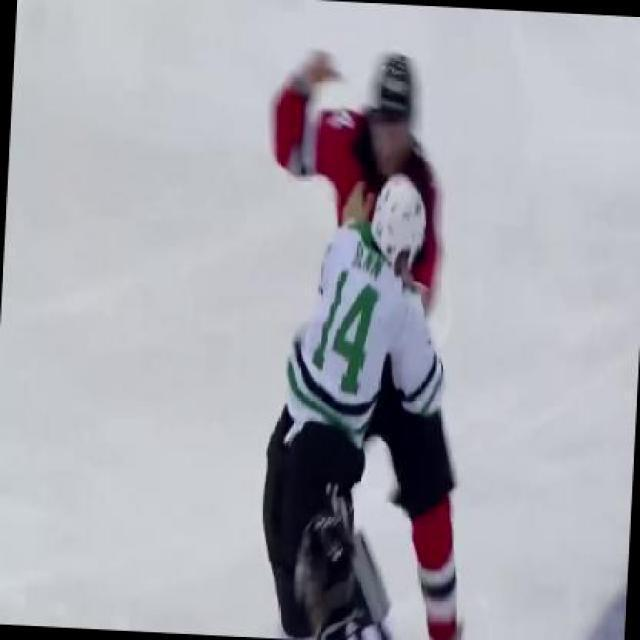fight: (242, 36, 492, 638)
